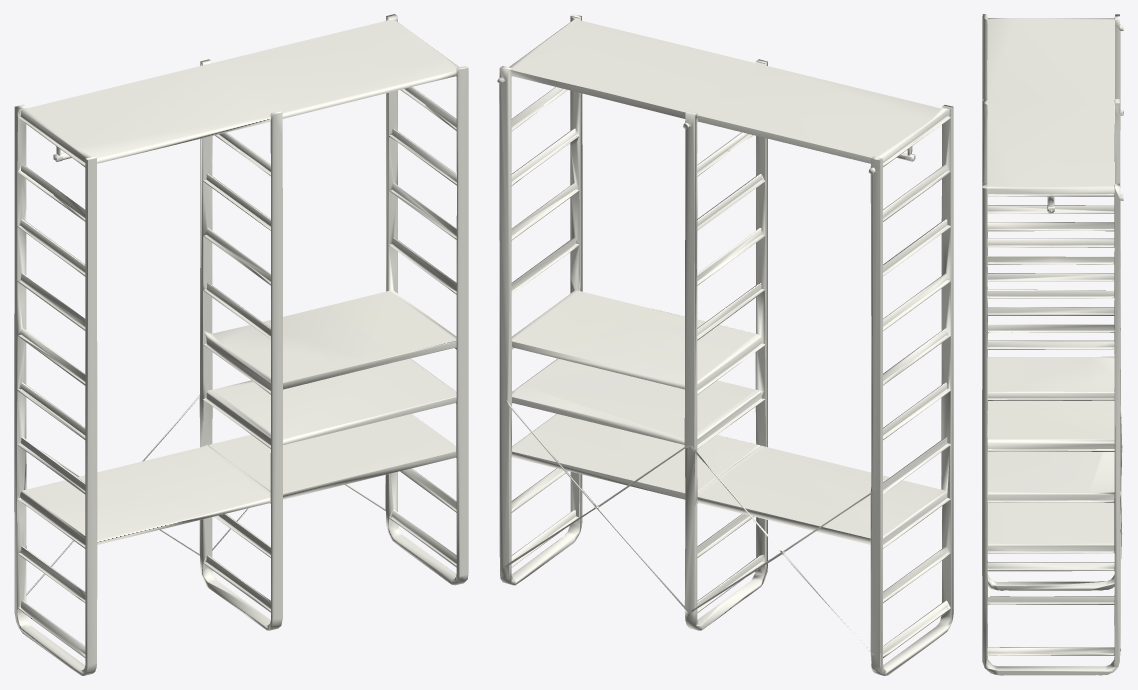
3 views of the same model, side by side, from view 1: azimuth 30°, elevation 25°; view 2: azimuth 150°, elevation 25°; view 3: azimuth 270°, elevation 25° (orthographic). The views are drawn at different scales.
Parts seen in each view (by area): view 1: ProcessedMeshNode; view 2: ProcessedMeshNode; view 3: ProcessedMeshNode.
Boxes of the visible parts, box(x1,y1,x2,y2) form: ProcessedMeshNode: box(14, 14, 468, 675); ProcessedMeshNode: box(497, 14, 953, 675); ProcessedMeshNode: box(982, 14, 1123, 675).
Size of the model in its own units: 1.65 by 2.16 by 0.5663.
1 material, 1 textured.
